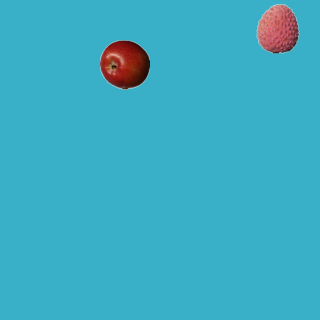Apple Braeburn: (99, 39, 149, 89)
Lychee: (252, 3, 302, 53)
